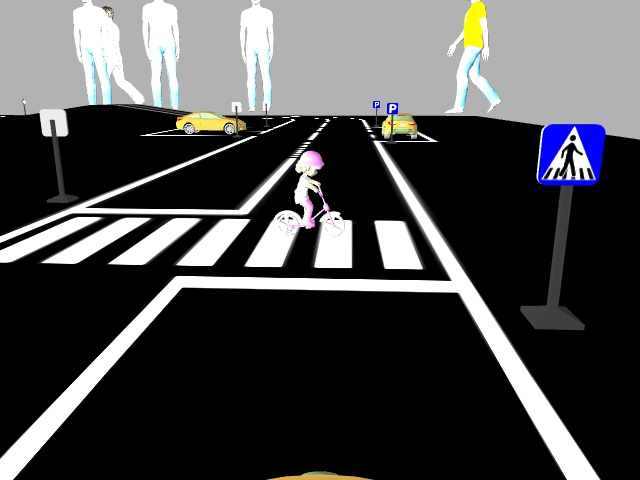Crosswalk: (538, 118, 603, 184)
Parking: (384, 100, 399, 114)
Pedestrian: (269, 149, 348, 238)
